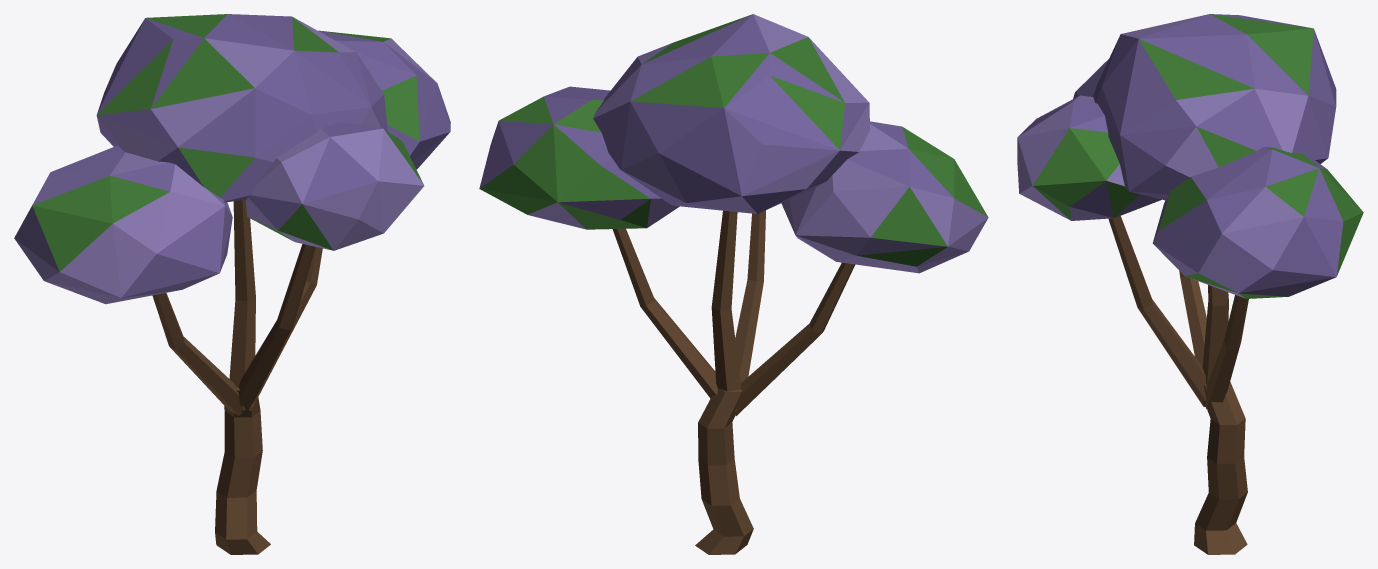
The model's file is arbol_jacaranda_a.glb.
3 renders of one model, left to right at view 1: azimuth 30°, elevation 25°; view 2: azimuth 150°, elevation 25°; view 3: azimuth 270°, elevation 25°, orthographic. The views are drawn at different scales.
Visible parts, largest first — view 1: arbol_jacaranda_a_copa, arbol_jacaranda_a_tronco; view 2: arbol_jacaranda_a_copa, arbol_jacaranda_a_tronco; view 3: arbol_jacaranda_a_copa, arbol_jacaranda_a_tronco.
Boxes of the visible parts, bbox=[...] form: arbol_jacaranda_a_copa: bbox=[14, 14, 450, 304]; arbol_jacaranda_a_tronco: bbox=[152, 199, 322, 554]; arbol_jacaranda_a_copa: bbox=[479, 14, 988, 273]; arbol_jacaranda_a_tronco: bbox=[612, 210, 854, 554]; arbol_jacaranda_a_copa: bbox=[1017, 14, 1363, 298]; arbol_jacaranda_a_tronco: bbox=[1108, 216, 1248, 554].
Size of what is drawn, in the model's own units: 5.4 by 6 by 3.69.
